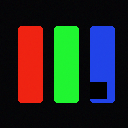1 square: (90, 82, 106, 98)
